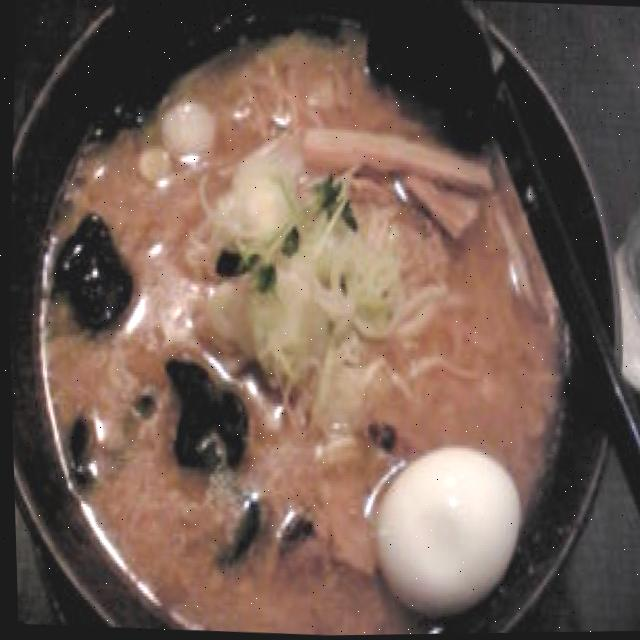面条主食: (4, 137, 640, 640)
